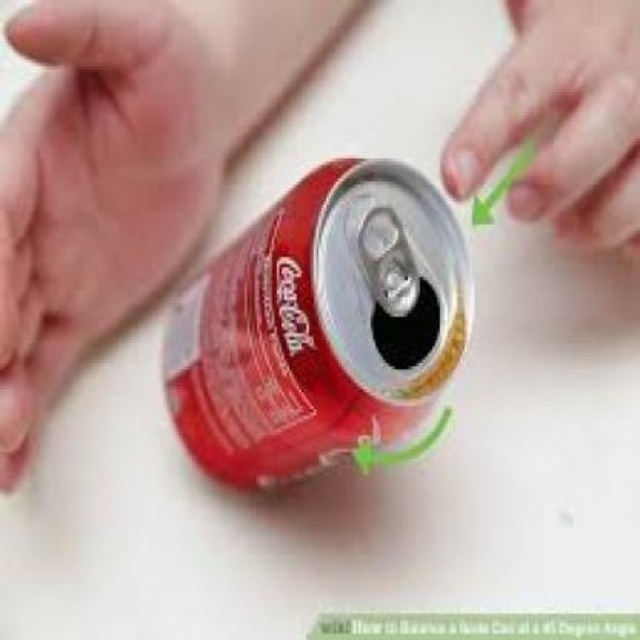trash: (165, 158, 471, 488)
